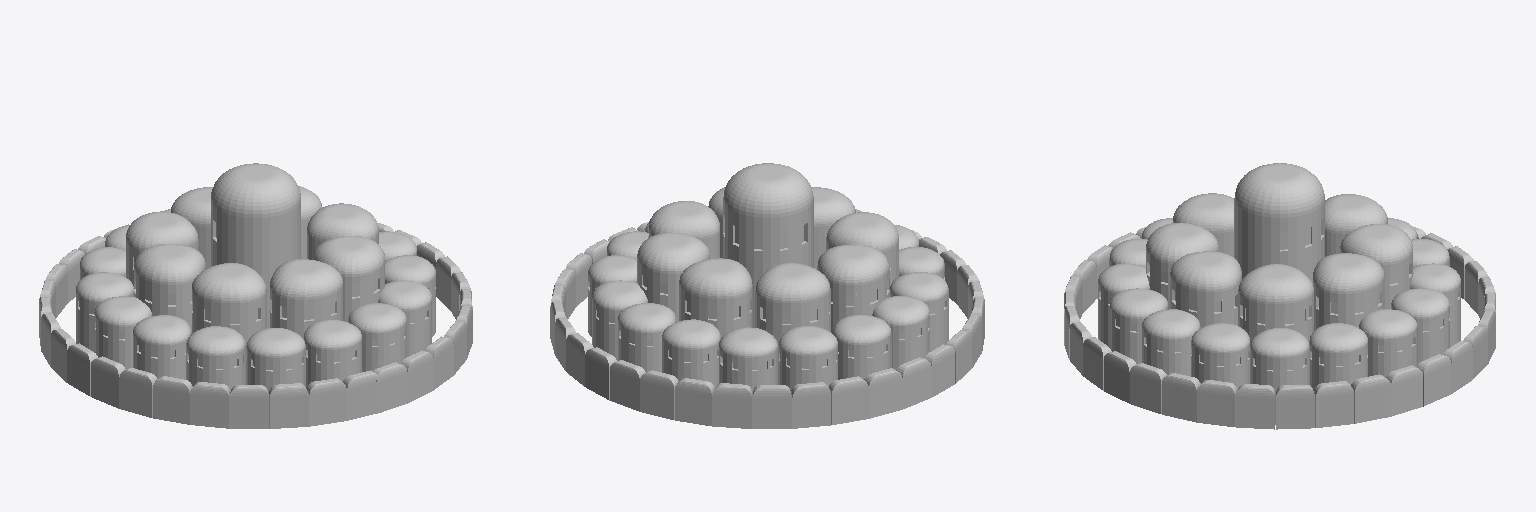
Rendered from castilloHielo.obj.
The picture shows the model from 3 angles: view 1: azimuth 30°, elevation 25°; view 2: azimuth 150°, elevation 25°; view 3: azimuth 270°, elevation 25°; orthographic projection.
Visible parts, largest first — view 1: Cylinder.005; view 2: Cylinder.005; view 3: Cylinder.005.
Part boxes in pixels (x1,y1,x2,y2): Cylinder.005: (39,163,472,428); Cylinder.005: (550,163,984,428); Cylinder.005: (1064,163,1495,429).
Size of the model in its own units: 14.82 by 6.26 by 14.77.